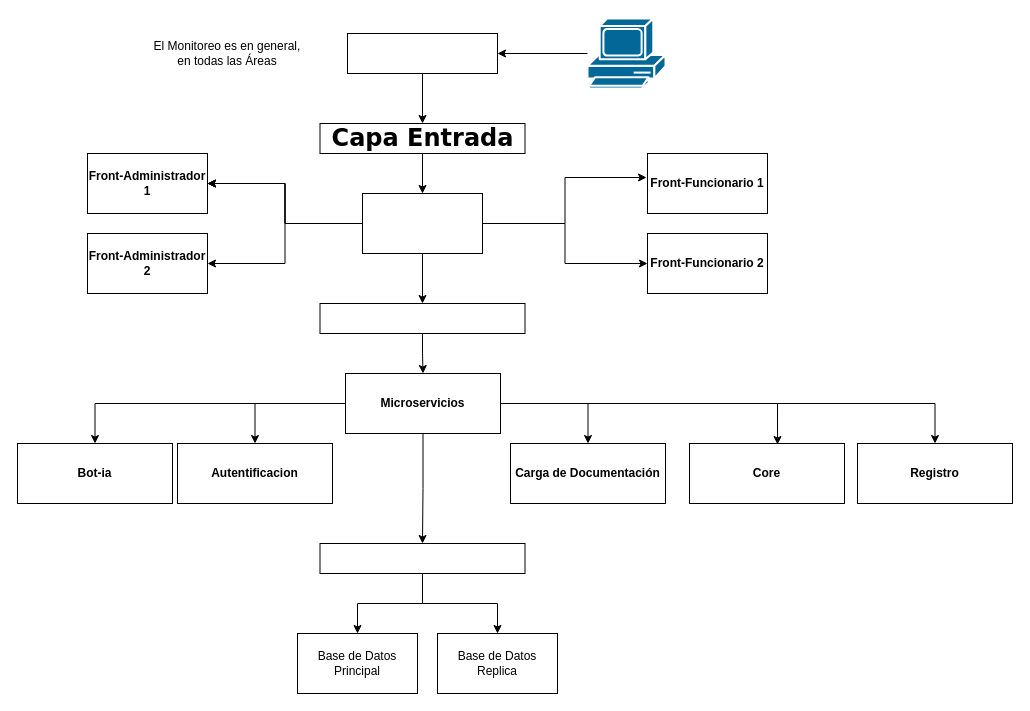
Some shapes in this 1030 by 711 pixel diagram are drawn without their labels. Each missing label, with the centre of its shape:
"Balanceador de Carga" goes at point 422,223.
"Base de Datos" goes at point 422,558.
"Capa Backend" goes at point 422,318.
"Monitoreo" goes at point 422,53.
